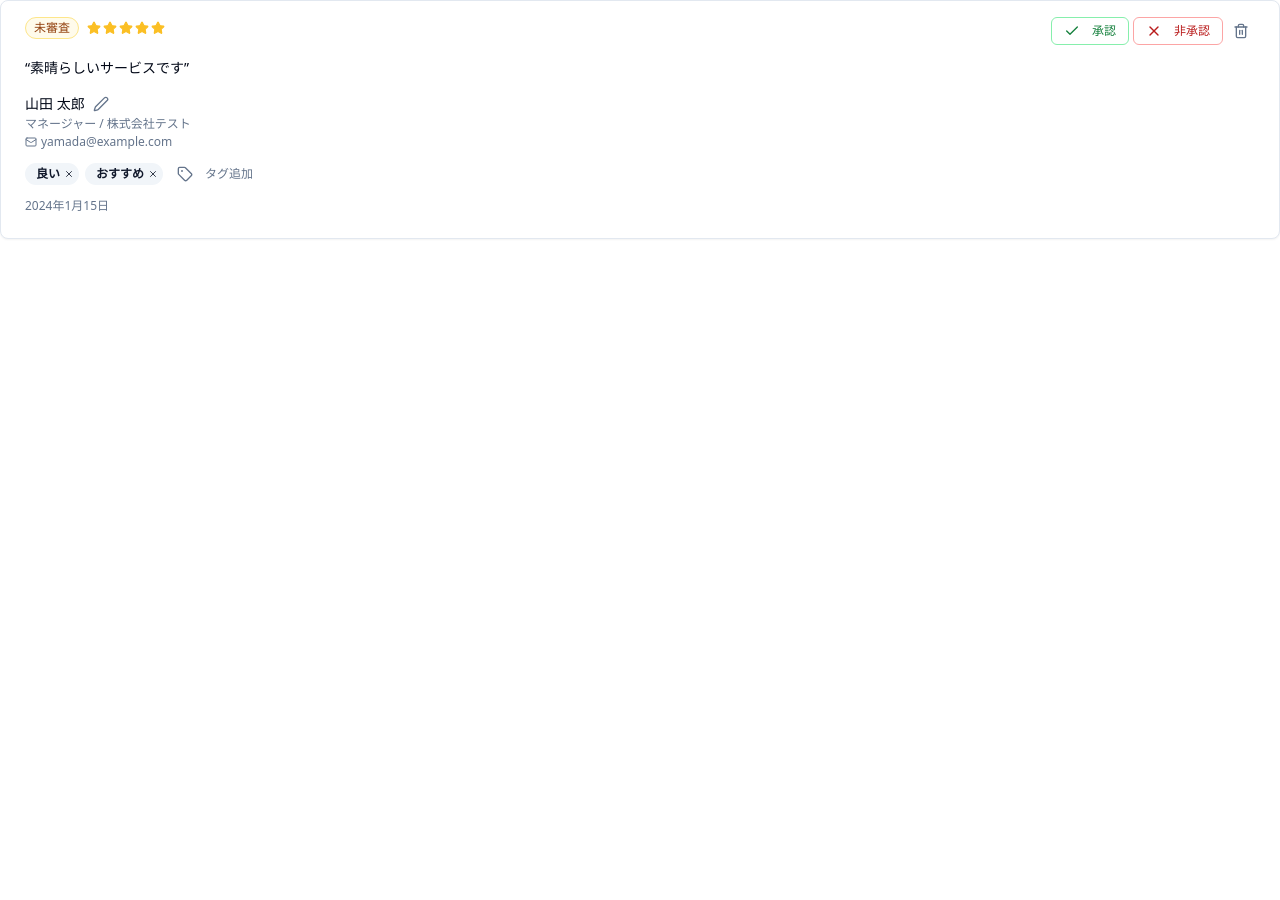
Test: TestimonialCard › 削除ボタンクリックで確認ダイアログが開く
Click the button named "削除する". click: (1241, 31)
box: [1227,17,1255,45]
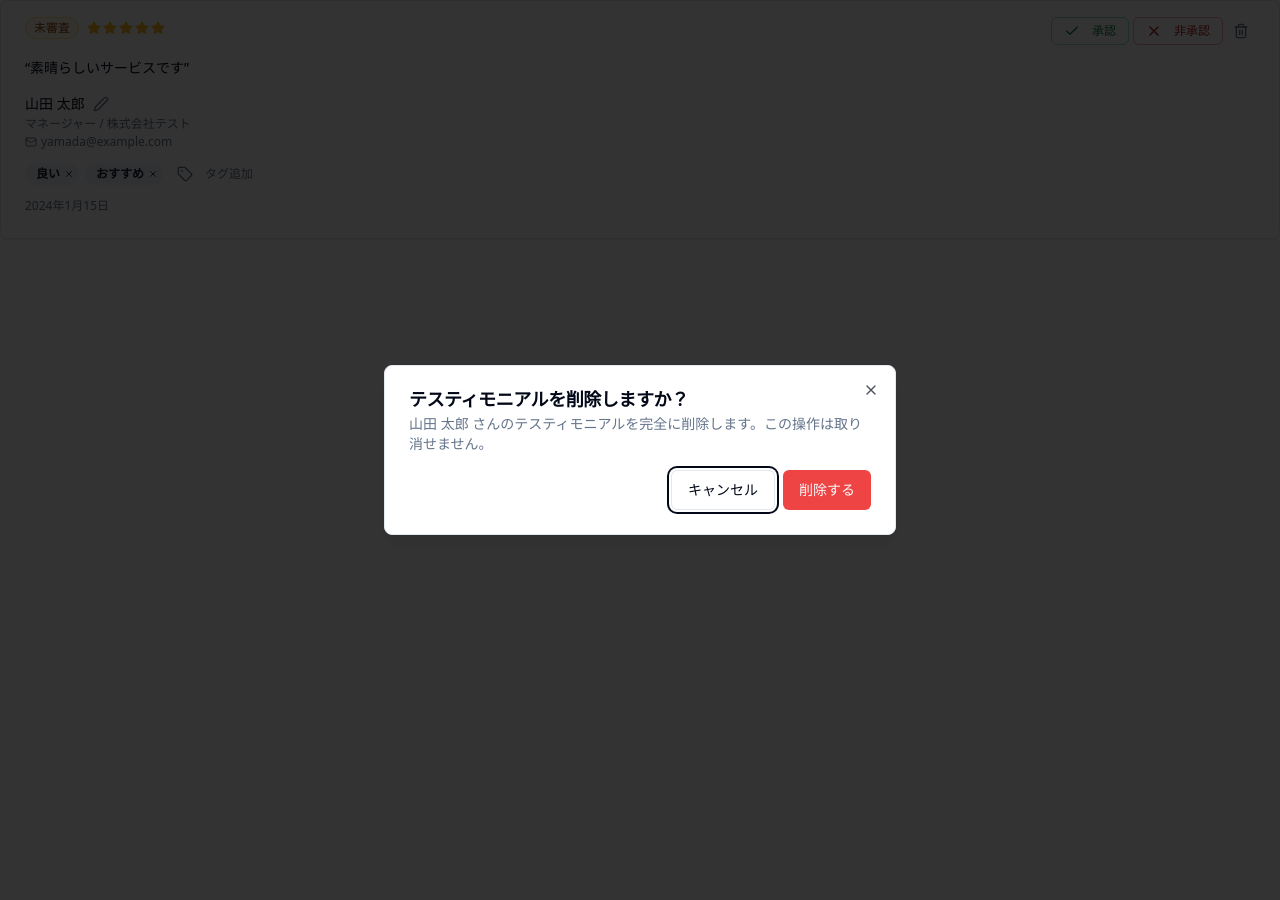
Now the heading "テスティモニアルを削除しますか？" is shown, box [409,387,688,411]
